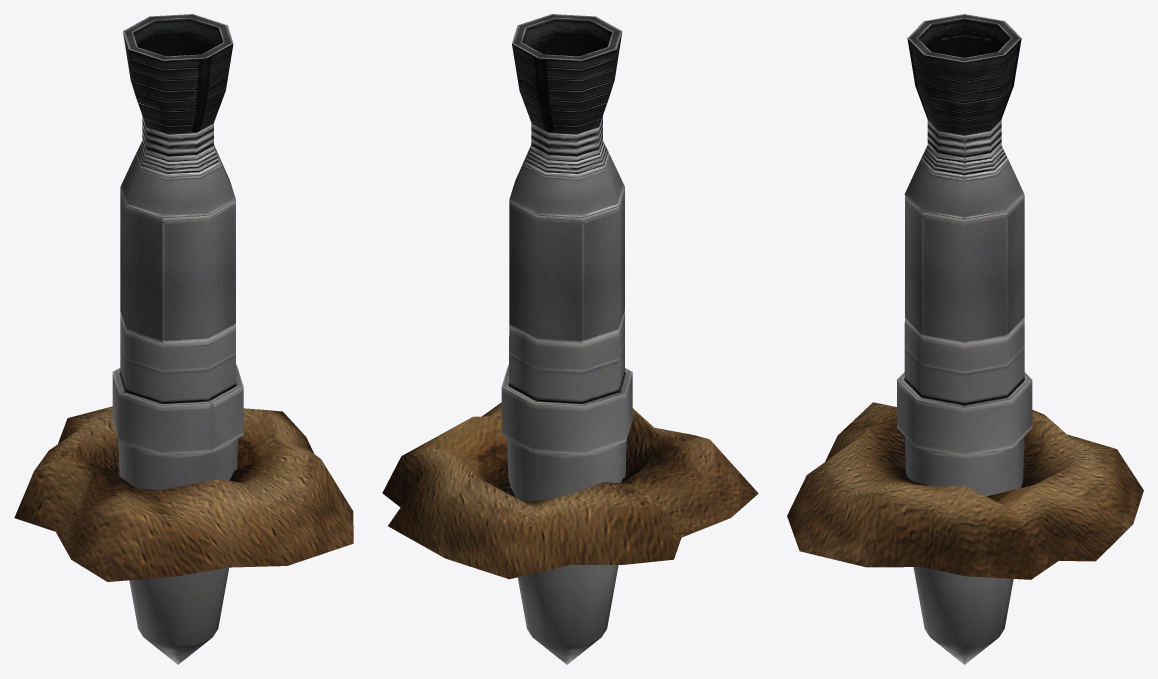
The model's file is Beacon.dae.
3 renders of one model, left to right at view 1: azimuth 30°, elevation 25°; view 2: azimuth 150°, elevation 25°; view 3: azimuth 270°, elevation 25°, orthographic.
Visible parts, largest first — view 1: dirt-Pivot, base-Pivot, rocket-Pivot, flap3-Pivot, flap2-Pivot; view 2: dirt-Pivot, base-Pivot, rocket-Pivot, flap1-Pivot, flap2-Pivot; view 3: dirt-Pivot, base-Pivot, rocket-Pivot, flap4-Pivot, flap1-Pivot, flap3-Pivot.
Part boxes in pixels (x1,y1,x2,y2): dirt-Pivot: (14, 406, 353, 581); base-Pivot: (112, 313, 243, 664); rocket-Pivot: (120, 14, 235, 218); flap3-Pivot: (162, 200, 235, 343); flap2-Pivot: (120, 188, 162, 343); dirt-Pivot: (382, 402, 758, 579); base-Pivot: (501, 313, 632, 664); rocket-Pivot: (509, 14, 624, 218); flap1-Pivot: (509, 200, 582, 343); flap2-Pivot: (582, 188, 624, 343); dirt-Pivot: (787, 402, 1143, 579); base-Pivot: (897, 320, 1032, 664); rocket-Pivot: (904, 14, 1024, 219); flap4-Pivot: (922, 212, 1006, 344); flap1-Pivot: (1007, 194, 1024, 336); flap3-Pivot: (905, 195, 922, 336).
Size of the model in its own units: 22.57 by 24.34 by 47.16.
